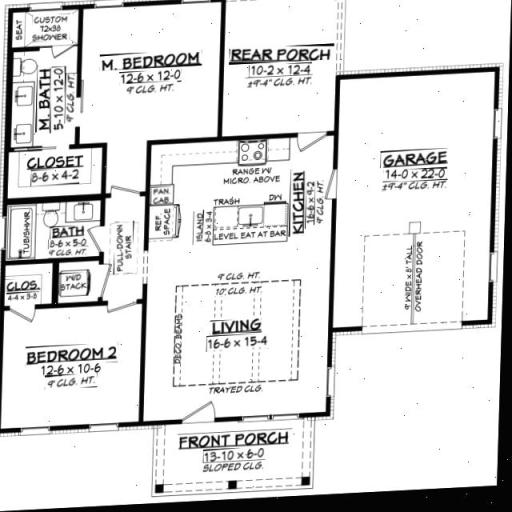bathroom: (16, 15, 82, 151), (8, 206, 105, 258)
bedroom: (88, 16, 218, 141), (10, 302, 146, 420)
closet: (12, 158, 97, 190)
garage: (347, 74, 486, 317)
hall: (156, 285, 324, 414)
kitchen: (156, 154, 331, 267)
porch: (160, 428, 310, 507)
